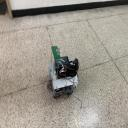cart: (49, 59, 78, 98)
